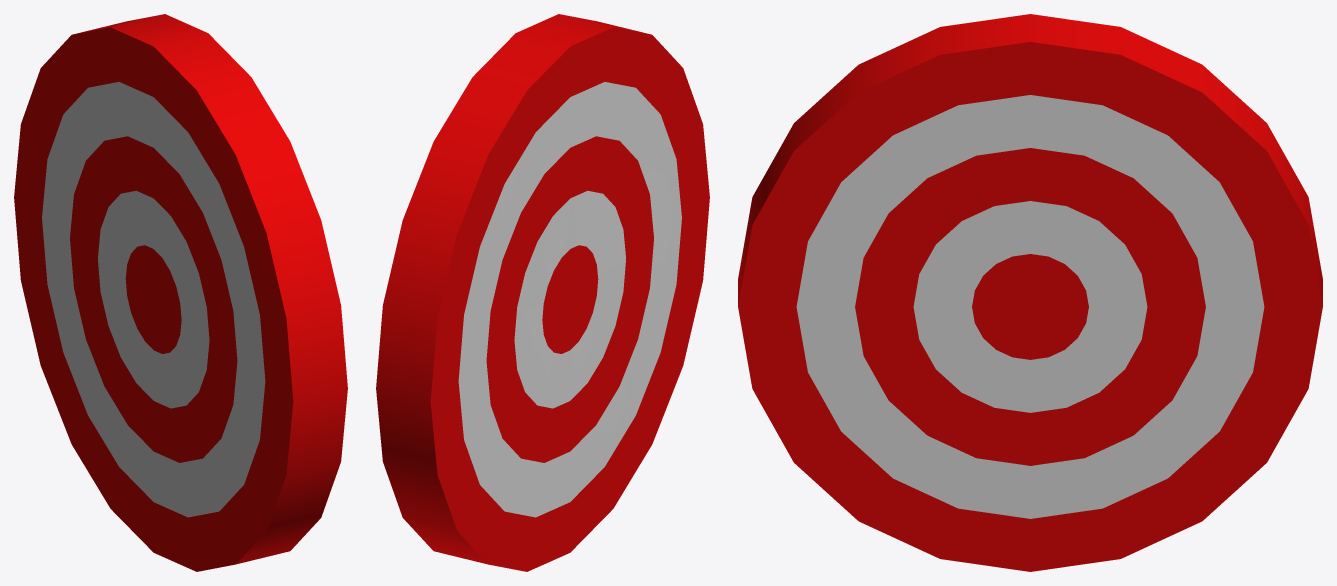
Rendered from target.fbx.
3 views of the same model, side by side, from view 1: azimuth 30°, elevation 25°; view 2: azimuth 150°, elevation 25°; view 3: azimuth 270°, elevation 25° (orthographic). The views are drawn at different scales.
Visible parts, largest first — view 1: Target_2; view 2: Target_2; view 3: Target_2.
Part boxes in pixels (x1,y1,x2,y2): Target_2: (14,14,347,571); Target_2: (376,14,709,571); Target_2: (738,14,1322,571).
Bounding box in the file's own units: 0.7794 × 6.9 × 6.9.
